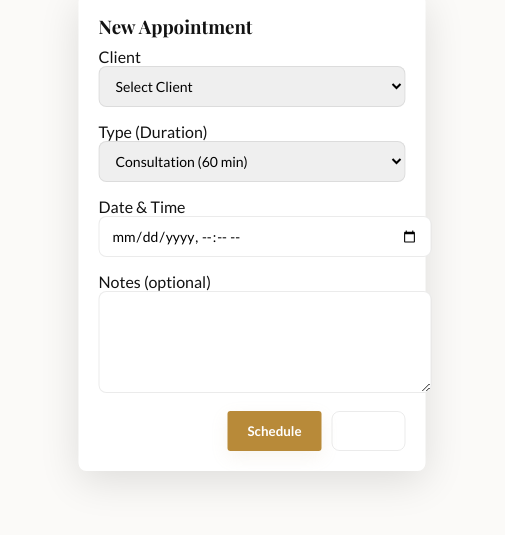
CreateAppointment › shows error for weekend date
The width and height of the screenshot is (505, 535).
Select "John Doe" in the dropdown labelled "Client" at [252, 86], box [98,66,406,107]
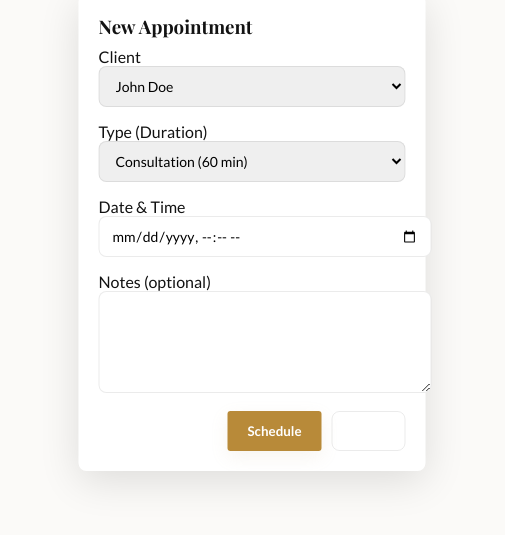
Type "2025-12-28T12:00" into the field labelled "Date & Time".
click(265, 236); type("2025-12-28T12:00")  # box [98,216,432,257]
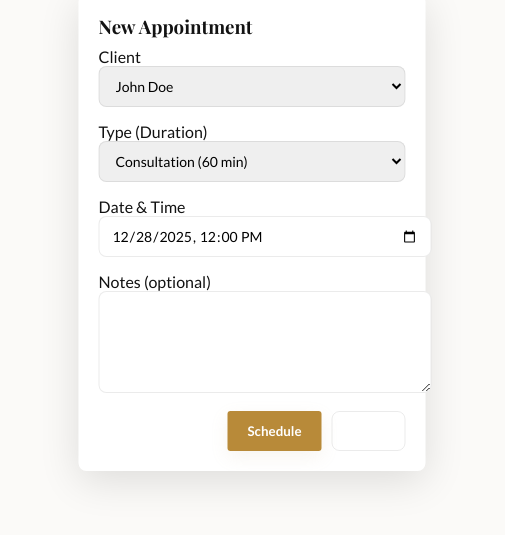
Click the button "Schedule".
click(275, 431)  # box [228,411,322,451]
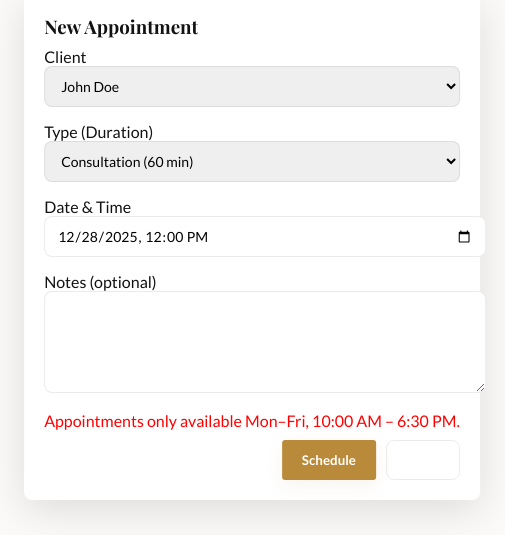
Expected: the text "Appointments only available Mon–Fri, 10:00 AM – 6:30 PM." is shown, [44,411,460,430]
